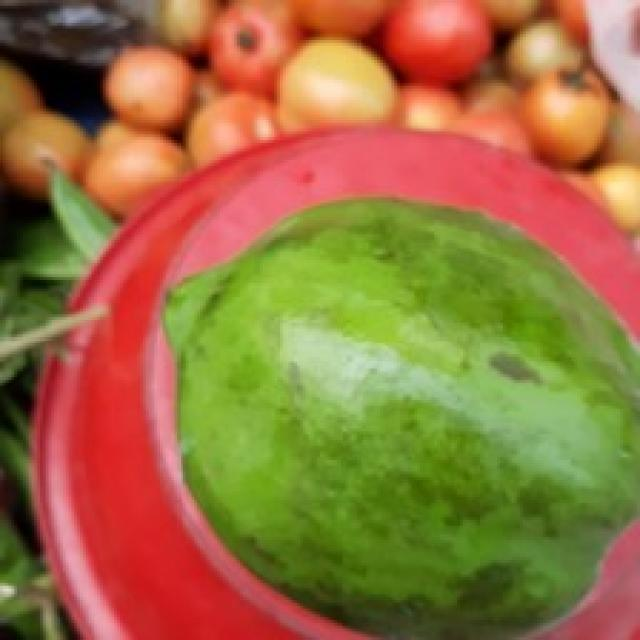Pepaya unrippen: (147, 188, 640, 640)
